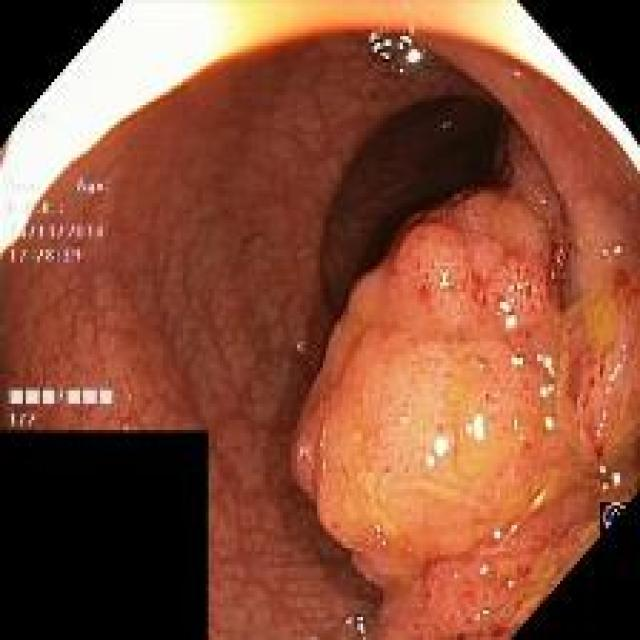Polyps: (294, 190, 640, 638)
